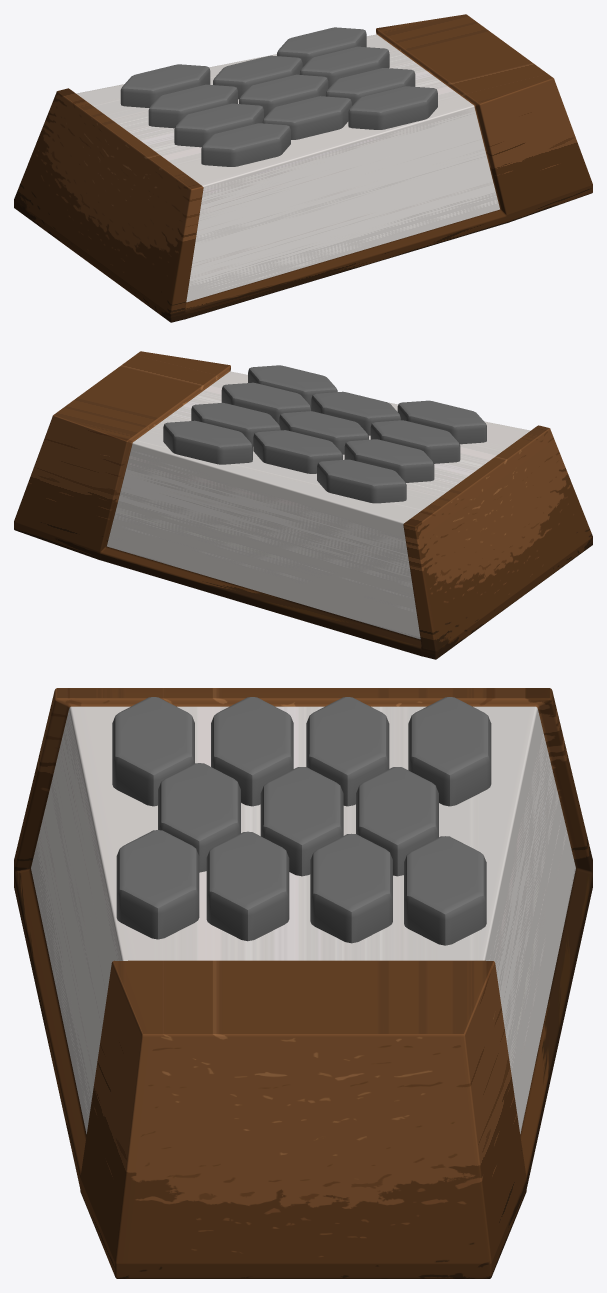
The model's file is tv remort.fbx.
3 views of the same model, one above another, from view 1: azimuth 30°, elevation 25°; view 2: azimuth 150°, elevation 25°; view 3: azimuth 270°, elevation 25° (orthographic). The views are drawn at different scales.
Parts seen in each view (by area): view 1: pCube18, pCylinder18, pCylinder23, pCylinder22, pCylinder15, pCylinder17, pCylinder16, pCylinder21, pCylinder25, pCylinder20, pCylinder19, pCylinder24; view 2: pCube18, pCylinder15, pCylinder19, pCylinder20, pCylinder16, pCylinder18, pCylinder17, pCylinder22, pCylinder24, pCylinder21, pCylinder25, pCylinder23; view 3: pCube18, pCylinder24, pCylinder23, pCylinder19, pCylinder25, pCylinder15, pCylinder18, pCylinder17, pCylinder21, pCylinder16, pCylinder20, pCylinder22.
Part boxes in pixels (x1=…): pCube18: x1=14, y1=14, x2=592, y2=322; pCylinder18: x1=201, y1=123, x2=290, y2=166; pCylinder23: x1=348, y1=86, x2=437, y2=129; pCylinder22: x1=262, y1=96, x2=351, y2=139; pCylinder15: x1=120, y1=64, x2=210, y2=107; pCylinder17: x1=174, y1=103, x2=263, y2=147; pCylinder16: x1=148, y1=84, x2=237, y2=128; pCylinder21: x1=239, y1=74, x2=328, y2=117; pCylinder25: x1=300, y1=46, x2=389, y2=88; pCylinder20: x1=213, y1=55, x2=302, y2=99; pCylinder19: x1=277, y1=27, x2=366, y2=66; pCylinder24: x1=325, y1=68, x2=415, y2=105; pCube18: x1=14, y1=351, x2=592, y2=659; pCylinder15: x1=317, y1=459, x2=406, y2=503; pCylinder19: x1=163, y1=420, x2=252, y2=464; pCylinder20: x1=253, y1=430, x2=342, y2=473; pCylinder16: x1=344, y1=439, x2=434, y2=482; pCylinder18: x1=397, y1=400, x2=486, y2=444; pCylinder17: x1=370, y1=420, x2=460, y2=463; pCylinder22: x1=311, y1=391, x2=400, y2=435; pCylinder24: x1=221, y1=382, x2=311, y2=424; pCylinder21: x1=279, y1=411, x2=368, y2=454; pCylinder25: x1=191, y1=402, x2=280, y2=446; pCylinder23: x1=248, y1=365, x2=337, y2=407; pCube18: x1=14, y1=688, x2=592, y2=1278; pCylinder24: x1=206, y1=831, x2=289, y2=941; pCylinder23: x1=116, y1=830, x2=199, y2=939; pCylinder19: x1=404, y1=836, x2=486, y2=945; pCylinder25: x1=310, y1=833, x2=392, y2=943; pCylinder15: x1=408, y1=697, x2=491, y2=806; pCylinder18: x1=112, y1=697, x2=194, y2=806; pCylinder17: x1=211, y1=697, x2=293, y2=806; pCylinder21: x1=260, y1=767, x2=343, y2=876; pCylinder16: x1=306, y1=697, x2=389, y2=806; pCylinder20: x1=356, y1=767, x2=438, y2=876; pCylinder22: x1=158, y1=763, x2=240, y2=872.
Bounding box in the file's own units: 2 × 0.5647 × 1.21.
